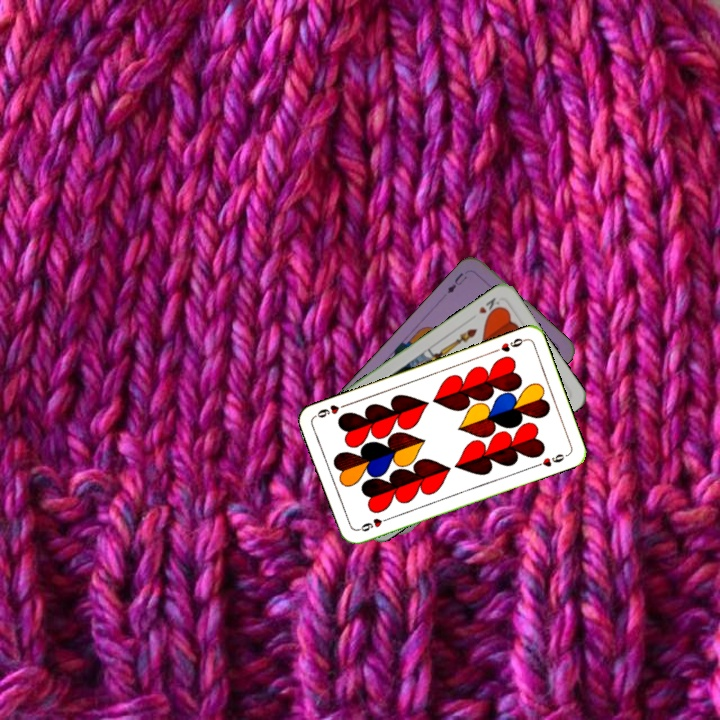EU: (443, 268, 470, 296)
H9: (490, 334, 529, 355), (354, 513, 393, 534)
HK: (474, 293, 504, 320)
